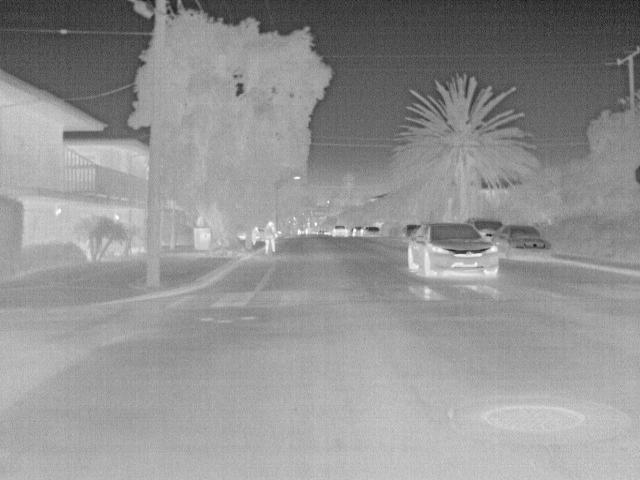car: (405, 222, 501, 278), (493, 225, 551, 261), (467, 219, 501, 241), (399, 222, 422, 242), (360, 224, 380, 240), (331, 224, 352, 237)
person: (263, 219, 278, 253)
